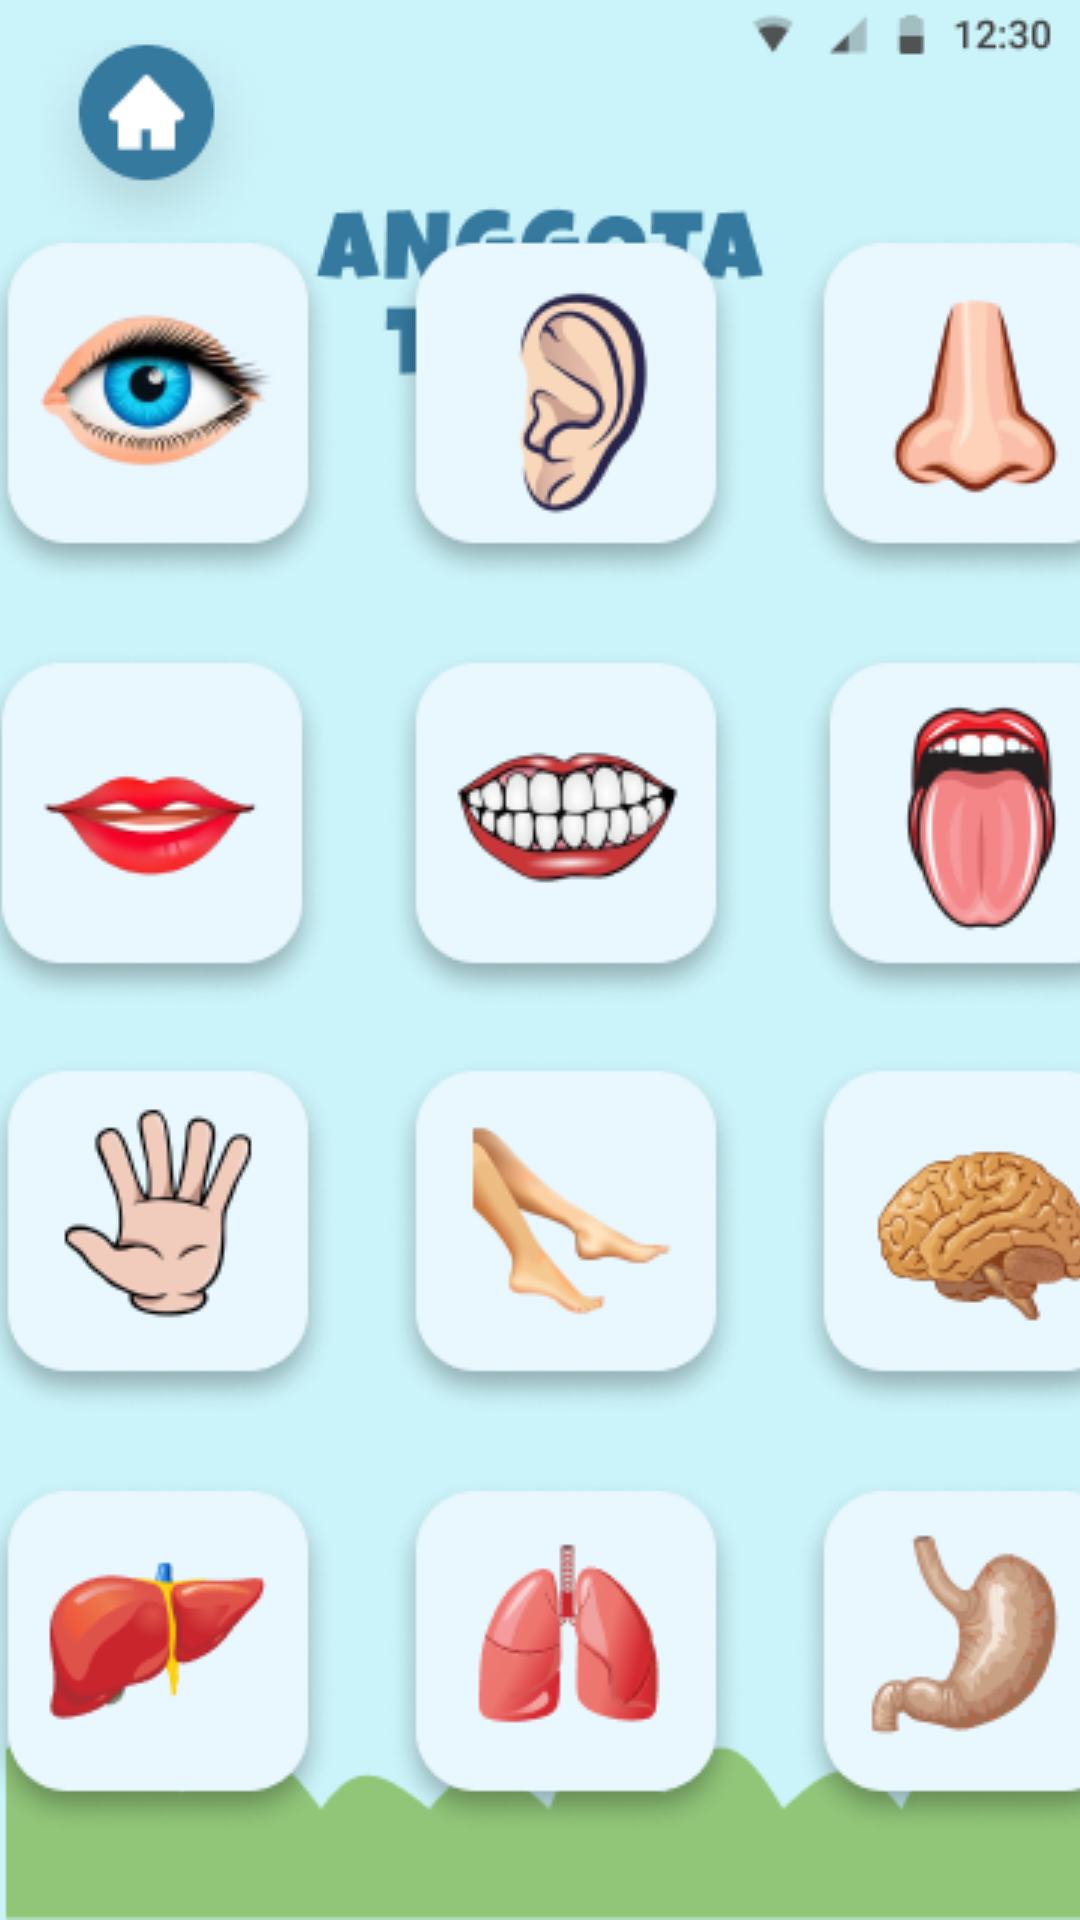

Icon bounding boxes for this 1080w x 1920h phone screenshot, format BBox(x1, y1, x2, y2):
gigiktg: BBox(410, 664, 722, 984)
home: BBox(78, 44, 215, 183)
kakiktg: BBox(410, 1072, 722, 1392)
